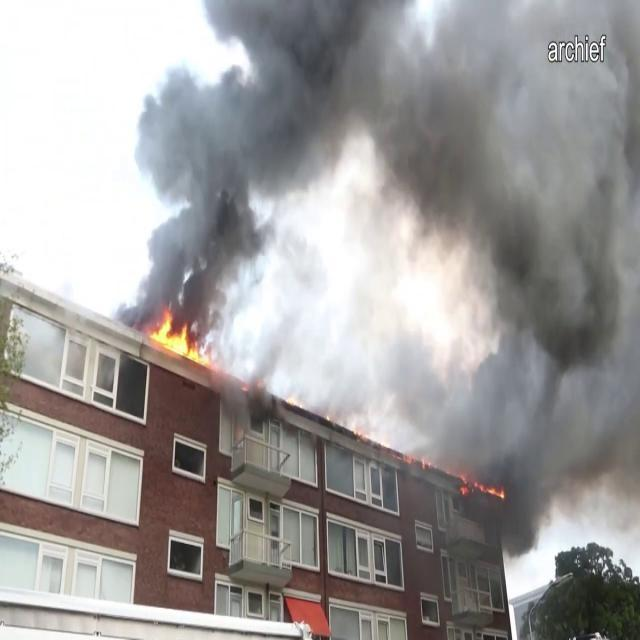Fire: (147, 310, 212, 364)
Smoke: (252, 0, 640, 502), (96, 0, 320, 348)
